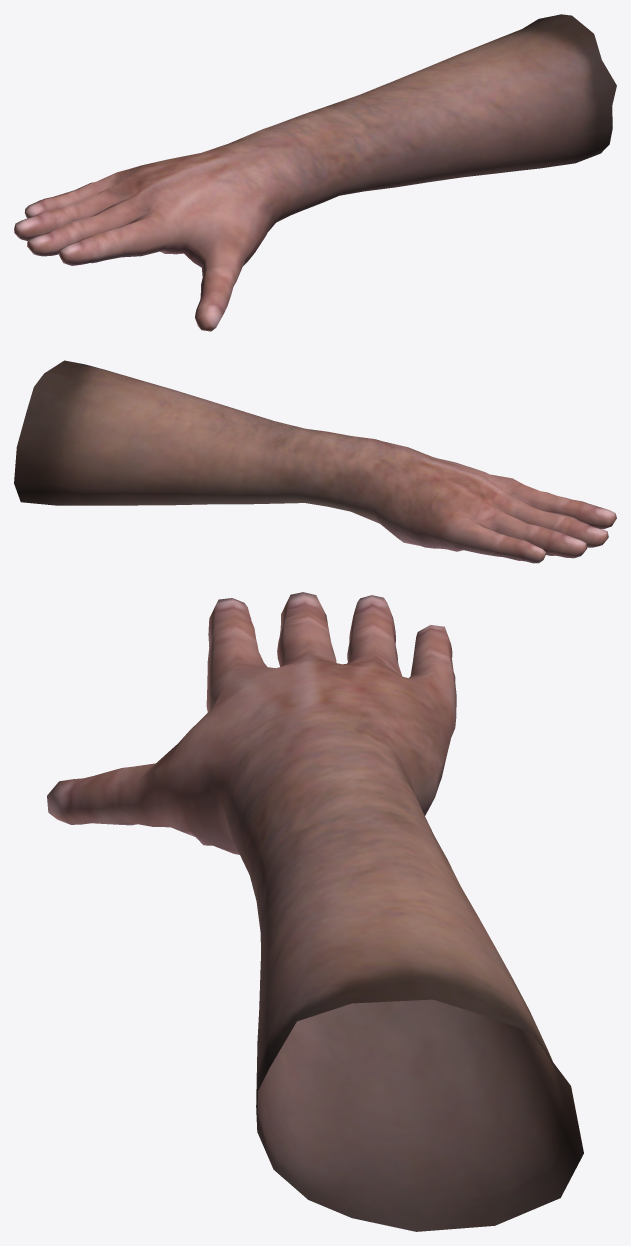
The model's file is Uth_Arm_Rt_MshShape.obj.
3 renders of one model, top to bottom at view 1: azimuth 30°, elevation 25°; view 2: azimuth 150°, elevation 25°; view 3: azimuth 270°, elevation 25°, orthographic. The views are drawn at different scales.
Visible parts, largest first — view 1: Uth_Arm_Rt_Msh Uth_Body_Grp SkinnedMesh Mesh CharacterRoot; view 2: Uth_Arm_Rt_Msh Uth_Body_Grp SkinnedMesh Mesh CharacterRoot; view 3: Uth_Arm_Rt_Msh Uth_Body_Grp SkinnedMesh Mesh CharacterRoot.
Part boxes in pixels (<box>): Uth_Arm_Rt_Msh Uth_Body_Grp SkinnedMesh Mesh CharacterRoot: <box>14,14,616,331</box>; Uth_Arm_Rt_Msh Uth_Body_Grp SkinnedMesh Mesh CharacterRoot: <box>14,360,616,563</box>; Uth_Arm_Rt_Msh Uth_Body_Grp SkinnedMesh Mesh CharacterRoot: <box>47,592,583,1231</box>.
Size of the model in its own units: 49.89 by 10.73 by 21.88.
1 material, 1 textured.
